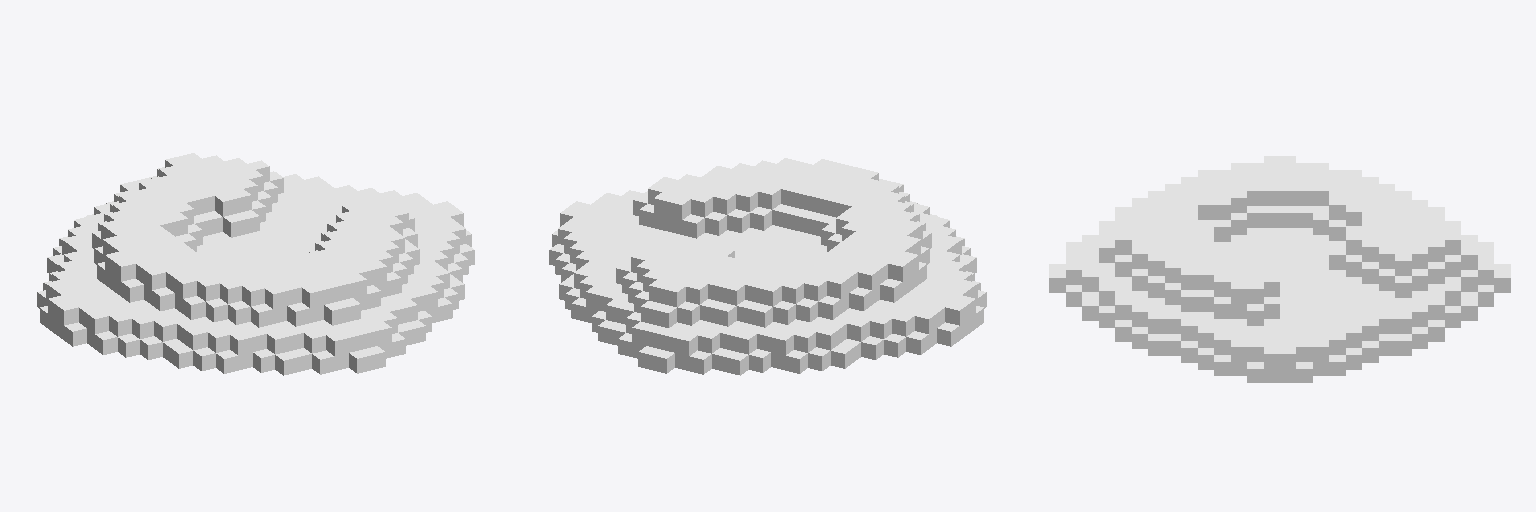
Rendered from botonreplay.obj.
The picture shows the model from 3 angles: view 1: azimuth 30°, elevation 25°; view 2: azimuth 150°, elevation 25°; view 3: azimuth 270°, elevation 25°; orthographic projection.
Parts seen in each view (by area): view 1: object 1; view 2: object 1; view 3: object 1.
Part boxes in pixels (x1,y1,x2,y2): object 1: (37,153,474,375); object 1: (549,158,986,375); object 1: (1049,156,1510,382).
Size of the model in its own units: 2.8 by 0.4 by 2.8.